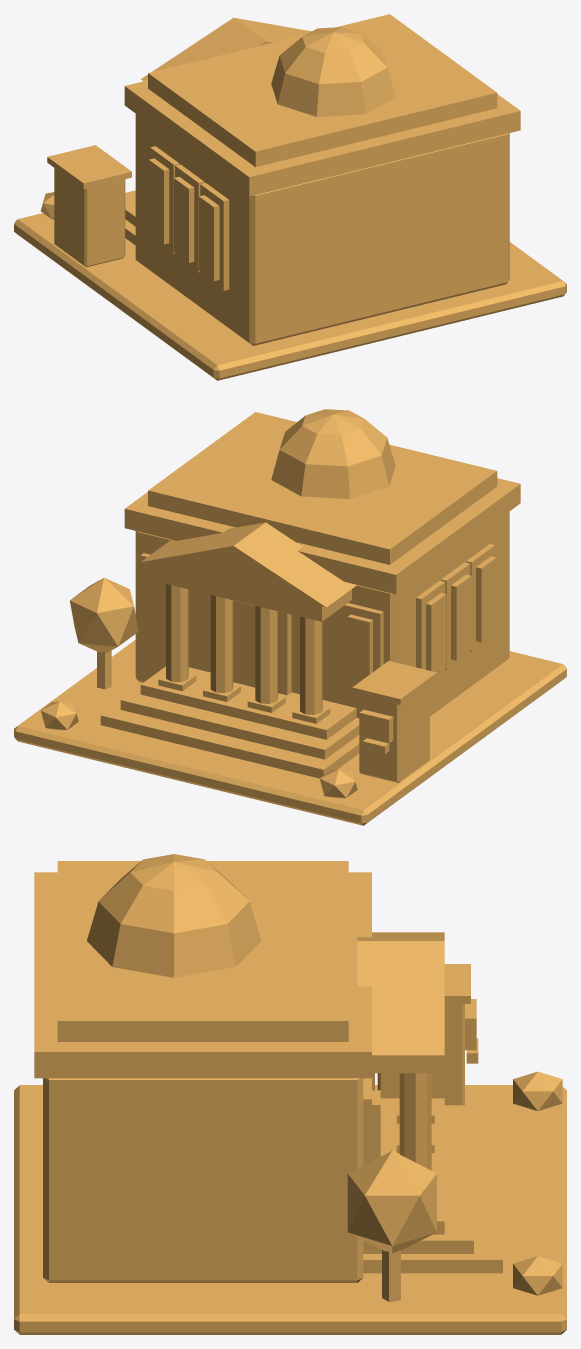
The picture shows the model from 3 angles, top to bottom: view 1: azimuth 30°, elevation 25°; view 2: azimuth 150°, elevation 25°; view 3: azimuth 270°, elevation 25°; orthographic projection. The views are drawn at different scales.
Visible parts, largest first — view 1: corpo; view 2: corpo; view 3: corpo.
Boxes of the visible parts, x1,y1,x2,y2 form: corpo: (14, 14, 566, 380); corpo: (14, 409, 566, 825); corpo: (14, 854, 566, 1334).
Size of the model in its own units: 1.91 by 1.36 by 1.9.
